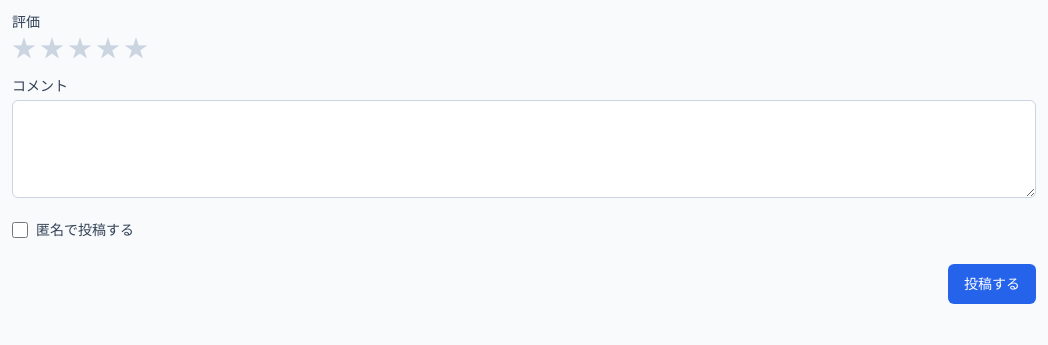
Test: FeedbackForm › 評価未選択のまま送信すると、バリデーションエラーを表示し送信されないこと
This screenshot has width=1048, height=345.
Type "とても良かったです" into the text box labelled "コメント".
click(524, 149); type("とても良かったです")  # box [12,100,1036,198]
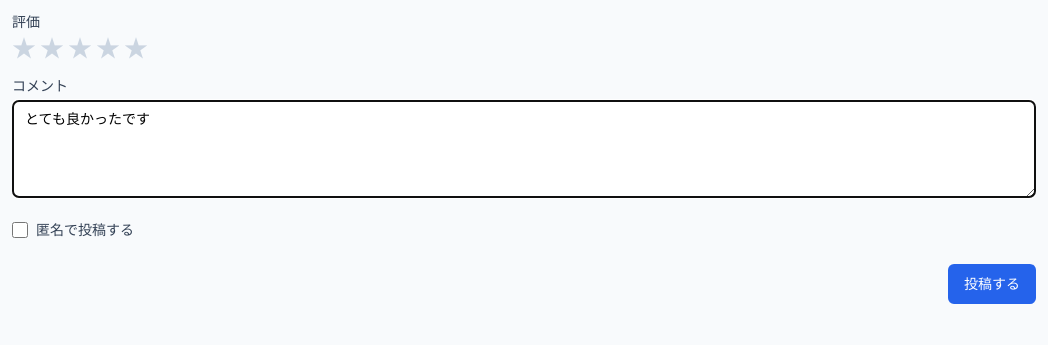
Click the button "投稿する".
click(992, 284)  # box [948,264,1036,304]
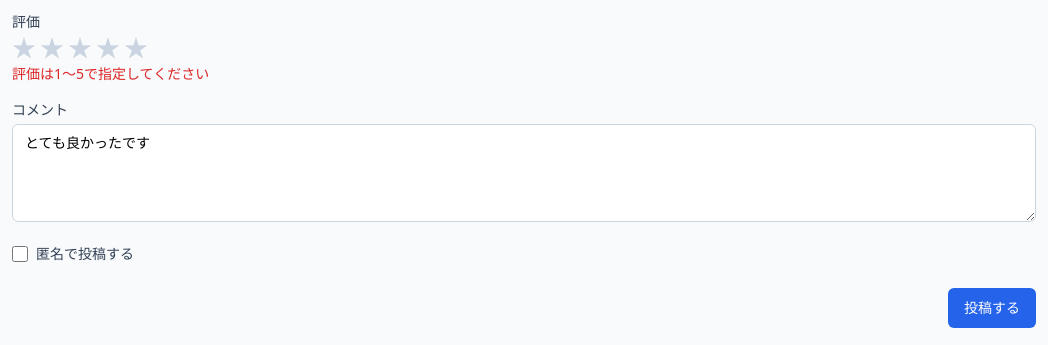
Expected: the text "評価は1〜5で指定してください" is shown, [12,64,209,83]
